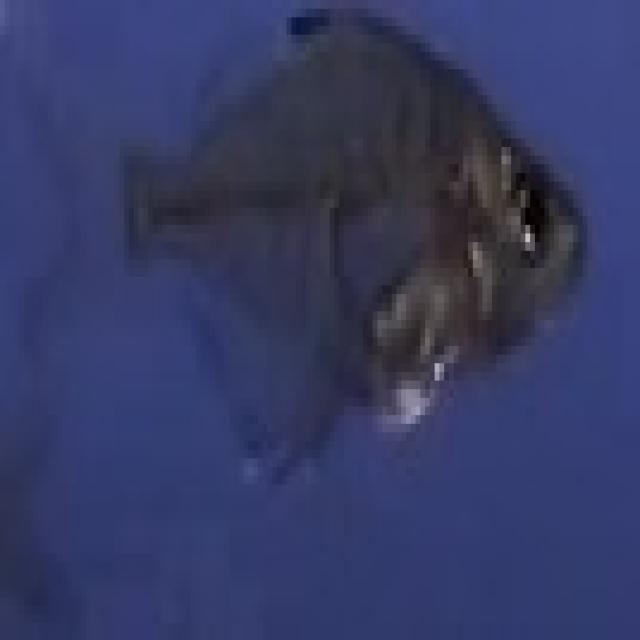Glass-Perchlet: (0, 0, 635, 512)
